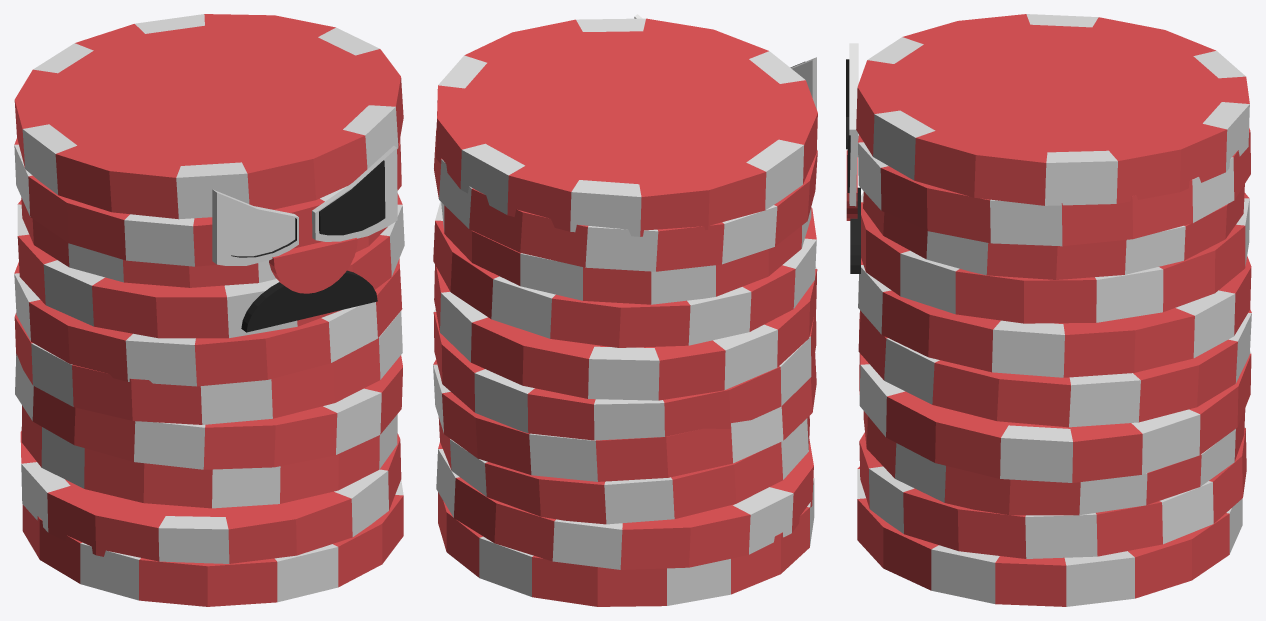
The model's file is pokerChips.fbx.
3 renders of one model, left to right at view 1: azimuth 30°, elevation 25°; view 2: azimuth 150°, elevation 25°; view 3: azimuth 270°, elevation 25°, orthographic. The views are drawn at different scales.
Visible parts, largest first — view 1: Cylinder.009, Cylinder.001, Cylinder.005, Cylinder.003, Plane.003, Cylinder, Cylinder.004, Cylinder.006, Cylinder.002, Cylinder.008, Cylinder.007; view 2: Cylinder.009, Cylinder.005, Cylinder.001, Cylinder.006, Cylinder.004, Cylinder.003, Cylinder.008, Cylinder.002, Cylinder, Cylinder.007, Plane.003; view 3: Cylinder.009, Cylinder.003, Cylinder.005, Cylinder.004, Cylinder.006, Cylinder, Cylinder.001, Cylinder.008, Cylinder.002, Cylinder.007, Plane.003.
Part boxes in pixels (<box>): Cylinder.009: <box>14,14,403,219</box>; Cylinder.001: <box>20,431,401,563</box>; Cylinder.005: <box>14,258,402,386</box>; Cylinder.003: <box>15,353,402,469</box>; Plane.003: <box>212,146,397,332</box>; Cylinder: <box>22,480,403,606</box>; Cylinder.004: <box>14,311,402,424</box>; Cylinder.006: <box>17,193,404,338</box>; Cylinder.002: <box>21,405,397,508</box>; Cylinder.008: <box>14,138,401,266</box>; Cylinder.007: <box>21,197,387,287</box>; Cylinder.009: <box>436,18,817,236</box>; Cylinder.005: <box>434,265,817,400</box>; Cylinder.001: <box>436,439,813,569</box>; Cylinder.006: <box>433,201,816,347</box>; Cylinder.004: <box>433,309,816,440</box>; Cylinder.003: <box>433,353,816,481</box>; Cylinder.008: <box>434,128,817,271</box>; Cylinder.002: <box>438,416,809,524</box>; Cylinder: <box>438,477,814,606</box>; Cylinder.007: <box>441,202,811,304</box>; Plane.003: <box>634,14,816,109</box>; Cylinder.009: <box>856,14,1249,205</box>; Cylinder.003: <box>859,350,1251,482</box>; Cylinder.005: <box>858,256,1251,377</box>; Cylinder.004: <box>858,309,1251,427</box>; Cylinder.006: <box>861,192,1249,323</box>; Cylinder: <box>857,466,1242,606</box>; Cylinder.001: <box>859,427,1246,558</box>; Cylinder.008: <box>858,128,1250,246</box>; Cylinder.002: <box>863,408,1245,515</box>; Cylinder.007: <box>863,184,1244,279</box>; Plane.003: <box>846,43,860,273</box>.
Bounding box in the file's own units: 295 × 366 × 302.
